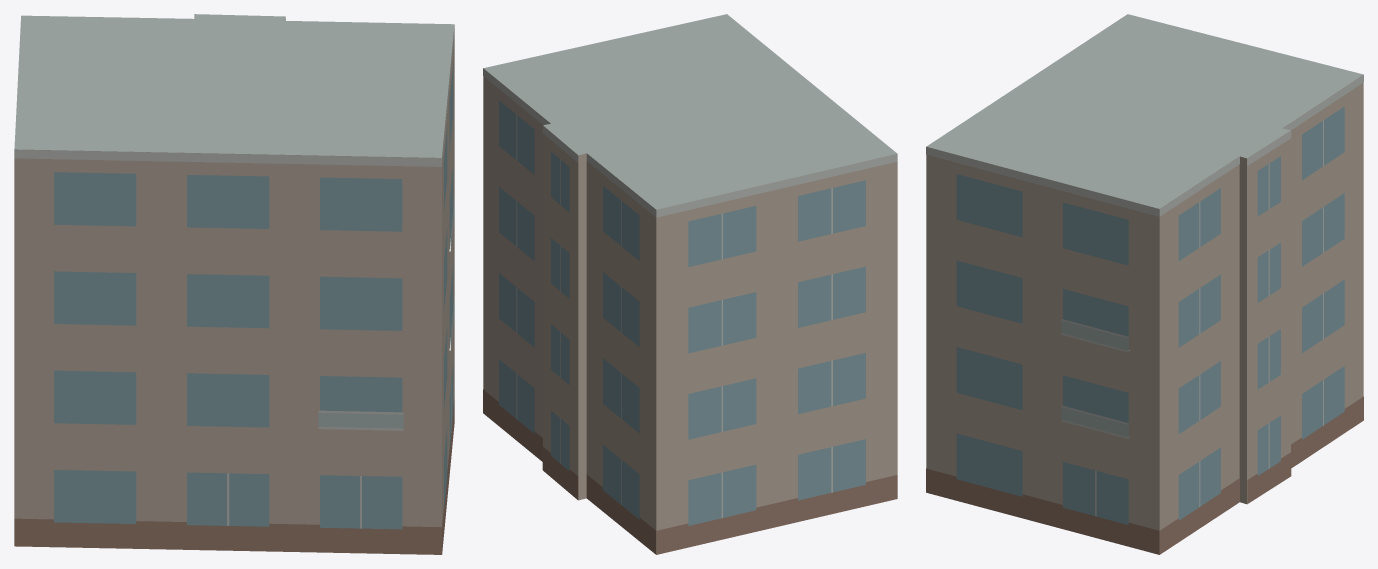
Rendered from survey-upis-32723840.glb.
3 renders of one model, left to right at view 1: azimuth 30°, elevation 25°; view 2: azimuth 150°, elevation 25°; view 3: azimuth 270°, elevation 25°, orthographic. The views are drawn at different scales.
Visible parts, largest first — view 1: survey-upis-32723840.tmp; view 2: survey-upis-32723840.tmp; view 3: survey-upis-32723840.tmp.
Part boxes in pixels (x1=…): survey-upis-32723840.tmp: x1=14, y1=14, x2=454, y2=554; survey-upis-32723840.tmp: x1=483, y1=14, x2=897, y2=554; survey-upis-32723840.tmp: x1=926, y1=14, x2=1363, y2=554.
Size of the model in its own units: 13 by 10.75 by 12.33.
